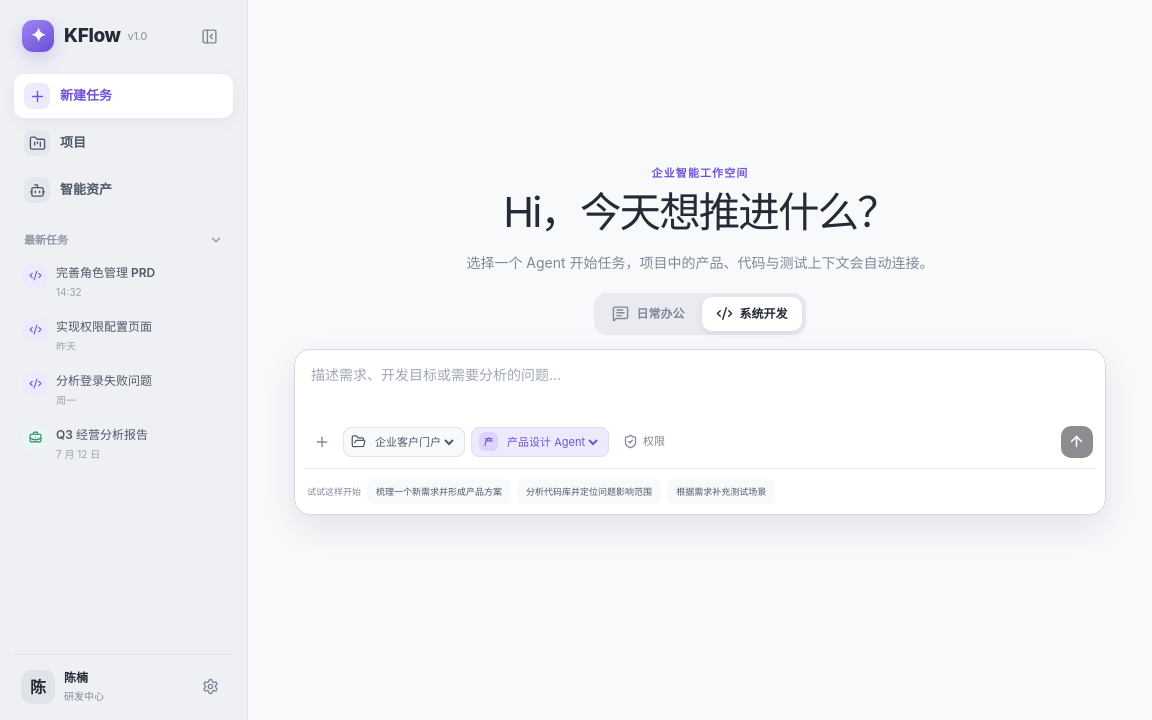
enterprise AI client demo › navigates to projects from the fixed sidebar
Click the button "项目": (124, 143) [14,121,233,165]
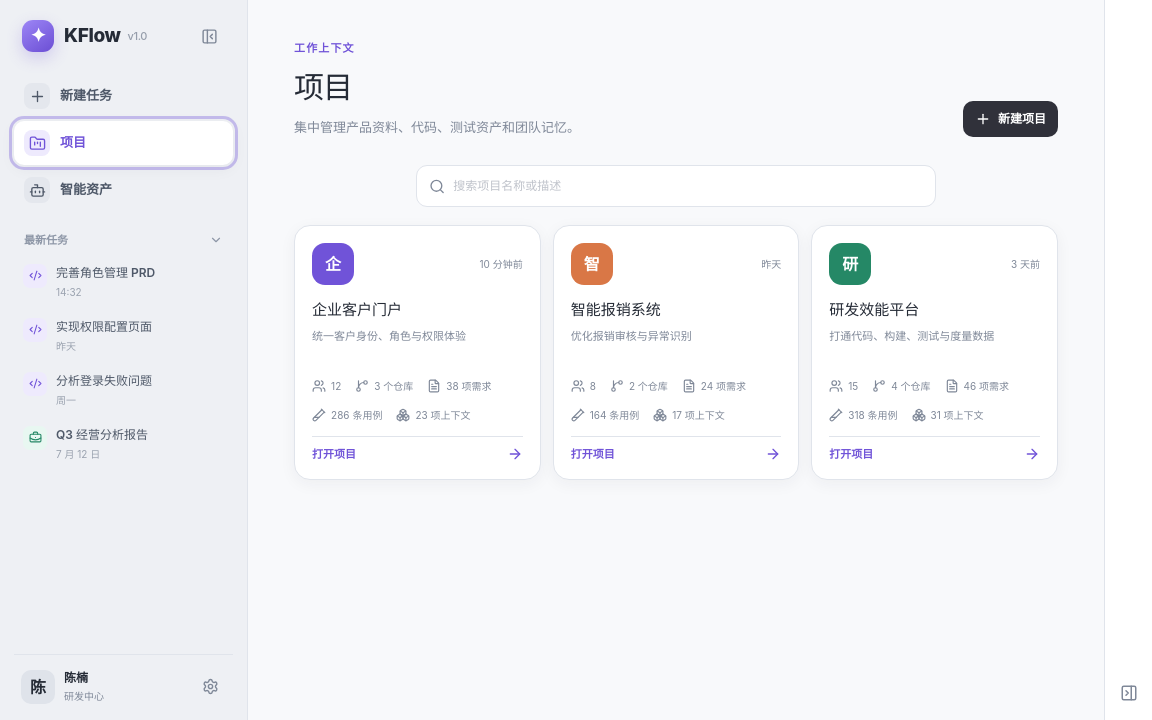
Result: the heading "项目" is shown at [294,68,352,104]
